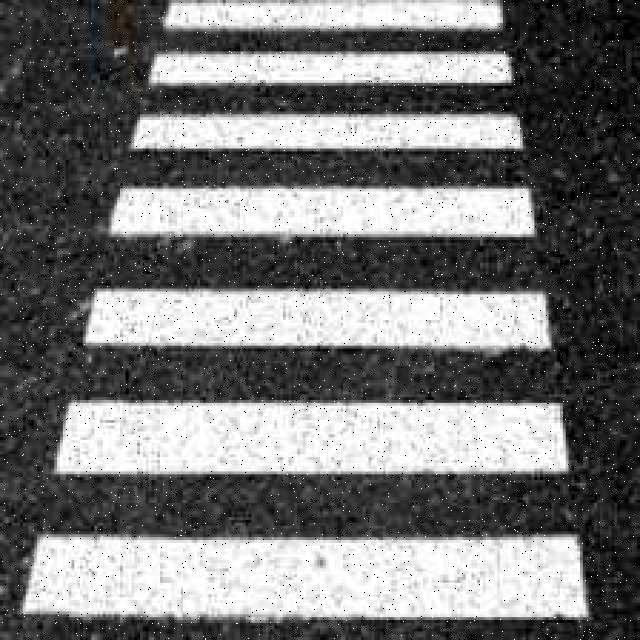crosswalk: (16, 2, 584, 639)
